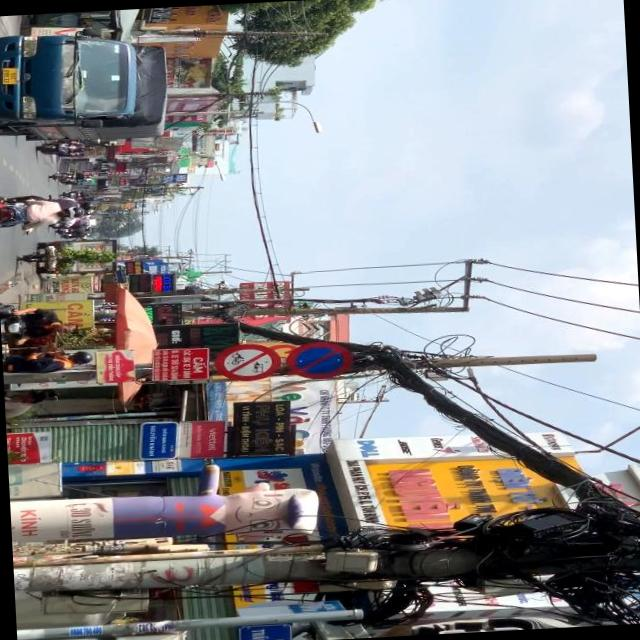P-131a: (288, 340, 352, 380)
